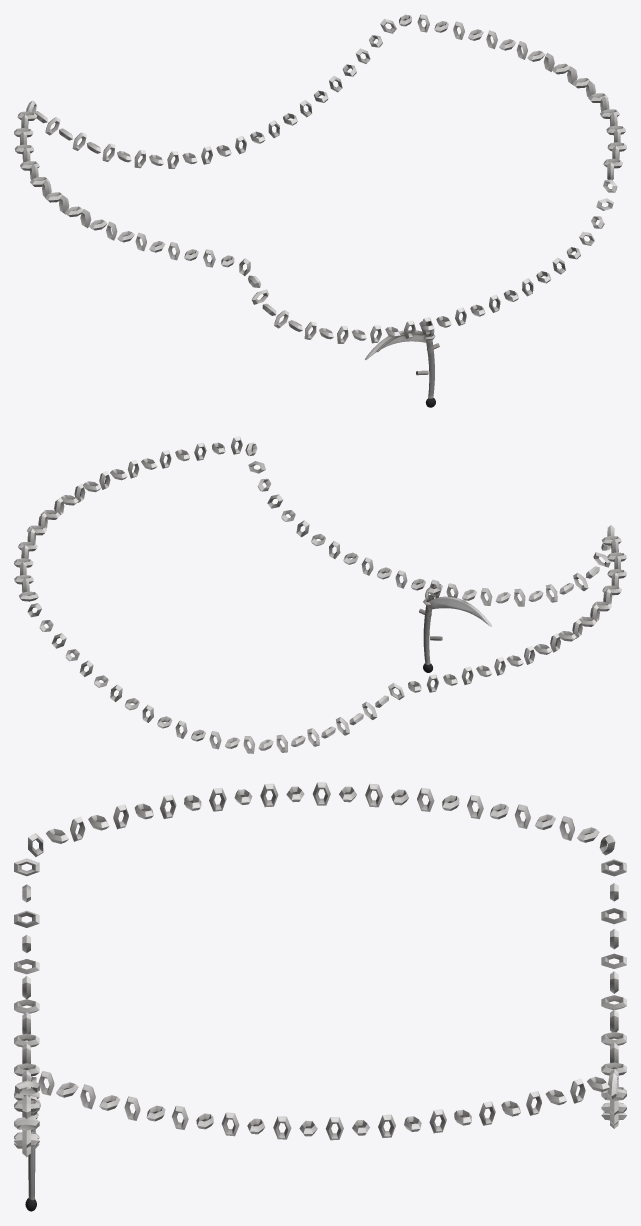
File: NHAcc_ScythePendant.fbx
The picture shows the model from 3 angles, top to bottom: view 1: azimuth 30°, elevation 25°; view 2: azimuth 150°, elevation 25°; view 3: azimuth 270°, elevation 25°; orthographic projection. The views are drawn at different scales.
Parts seen in each view (by area): view 1: ScythePendant; view 2: ScythePendant; view 3: ScythePendant.
Boxes of the visible parts, <box> form: ScythePendant: <box>14,14,626,407</box>; ScythePendant: <box>14,436,626,753</box>; ScythePendant: <box>14,782,626,1211</box>.
Bounding box in the file's own units: 1.46 × 0.514 × 1.1.
